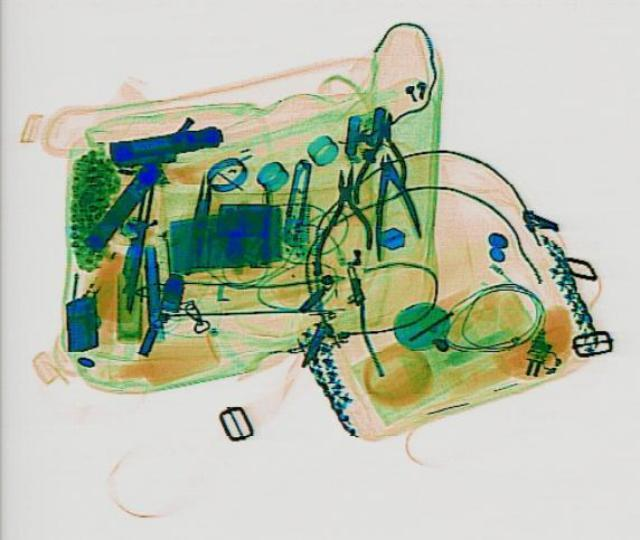Pliers: (356, 150, 426, 259), (311, 165, 373, 275), (351, 111, 407, 200)
